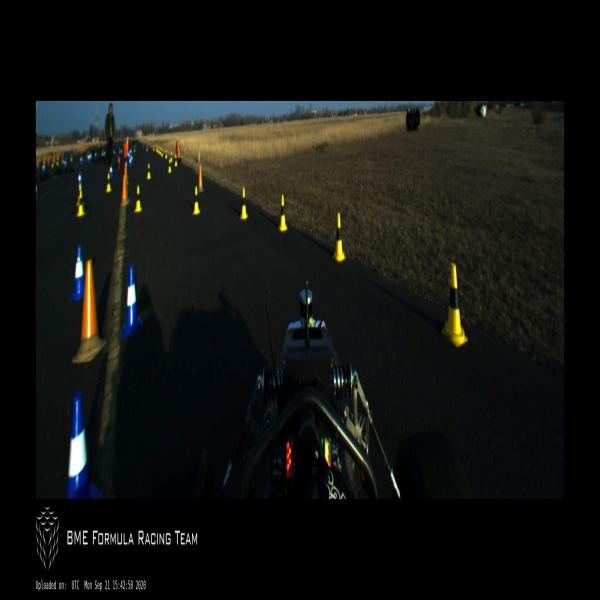blue_cone: (67, 392, 102, 499), (120, 265, 143, 338), (70, 245, 84, 302), (77, 172, 82, 188), (36, 179, 39, 200), (110, 164, 113, 179), (89, 149, 92, 160), (80, 154, 83, 164), (103, 148, 106, 158), (87, 152, 90, 162), (64, 158, 67, 168), (94, 150, 97, 159), (43, 162, 45, 175), (113, 148, 116, 156), (130, 153, 132, 164), (127, 150, 129, 158), (130, 148, 132, 156), (130, 157, 131, 166), (129, 153, 130, 160), (121, 149, 122, 156)
large_orange_cone: (118, 152, 120, 171)
unknown_cone: (71, 259, 106, 363), (120, 174, 129, 205), (122, 163, 130, 187), (197, 164, 204, 191)
yellow_cone: (441, 264, 468, 346), (332, 213, 346, 262), (278, 195, 288, 230), (239, 188, 248, 219), (192, 186, 200, 214), (134, 184, 142, 212), (78, 190, 85, 216), (76, 183, 82, 206), (106, 172, 112, 194), (146, 163, 152, 179), (168, 159, 171, 172), (174, 155, 177, 167), (170, 151, 173, 162), (51, 159, 54, 167), (70, 154, 73, 162), (61, 156, 64, 163), (165, 150, 167, 160), (161, 149, 163, 157), (158, 146, 160, 154), (146, 144, 148, 152), (102, 148, 104, 156), (57, 157, 59, 165), (134, 146, 136, 153), (160, 147, 161, 155), (157, 146, 158, 153), (156, 145, 157, 152), (153, 145, 154, 152)
